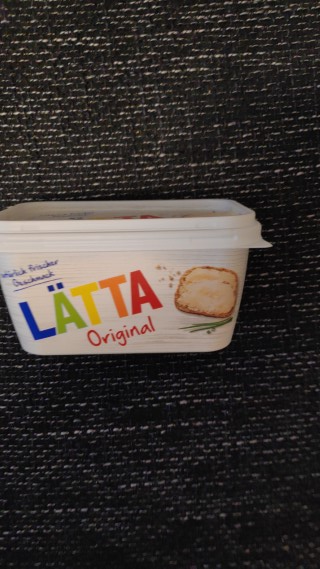laetta: (1, 196, 272, 357)
